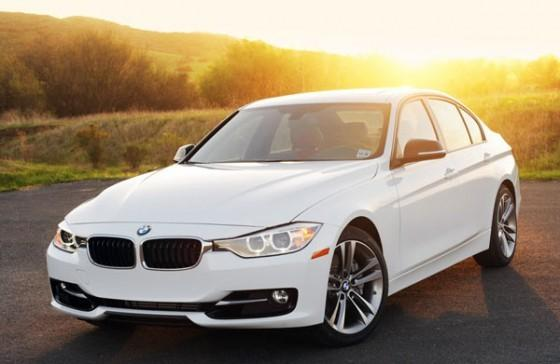Sedan: (45, 85, 522, 347)
